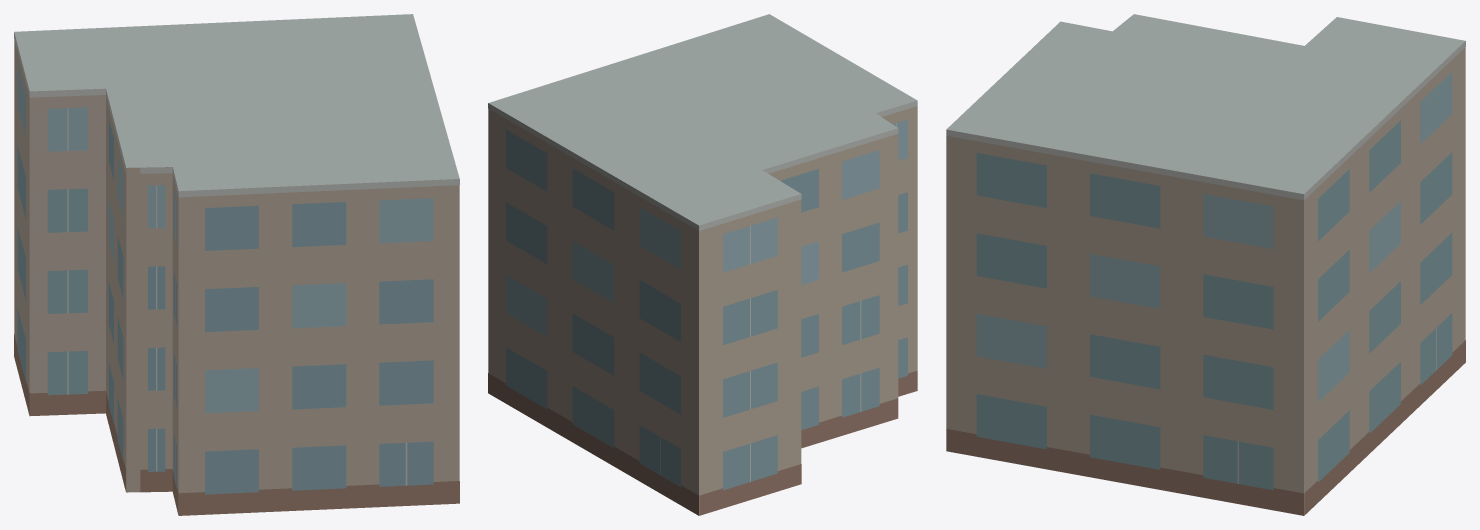
The model's file is survey-upis-32642466.glb.
The picture shows the model from 3 angles, left to right: view 1: azimuth 30°, elevation 25°; view 2: azimuth 150°, elevation 25°; view 3: azimuth 270°, elevation 25°; orthographic projection. The views are drawn at different scales.
Visible parts, largest first — view 1: survey-upis-32642466.tmp; view 2: survey-upis-32642466.tmp; view 3: survey-upis-32642466.tmp.
Part boxes in pixels (x1,y1,x2,y2): survey-upis-32642466.tmp: (14,14,459,515); survey-upis-32642466.tmp: (488,14,917,515); survey-upis-32642466.tmp: (946,14,1465,515).
Size of the model in its own units: 15.41 by 12.82 by 18.78.
